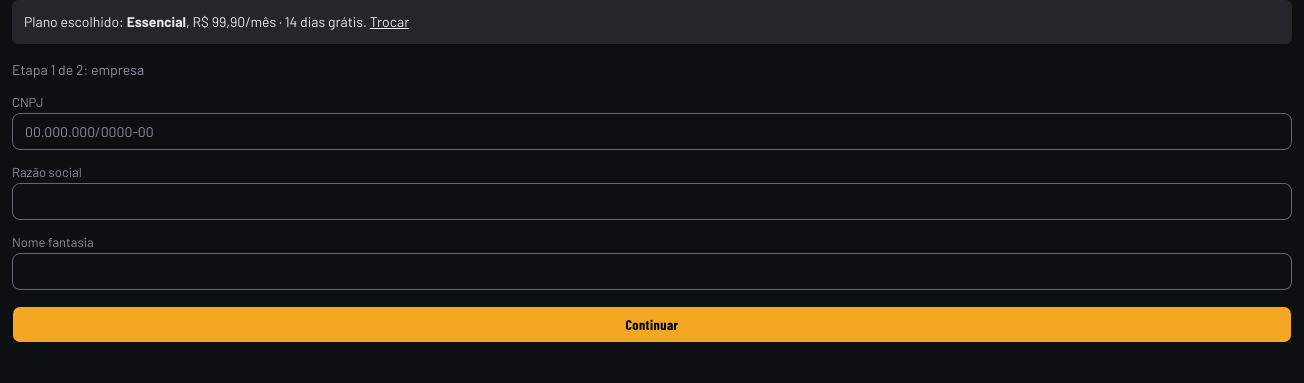
Test: CadastroForm › CNPJ inválido não avança nem consulta
This screenshot has width=1304, height=383.
Type "11222333000182" into the field labelled "CNPJ" at (652, 132), box [12,113,1292,150]
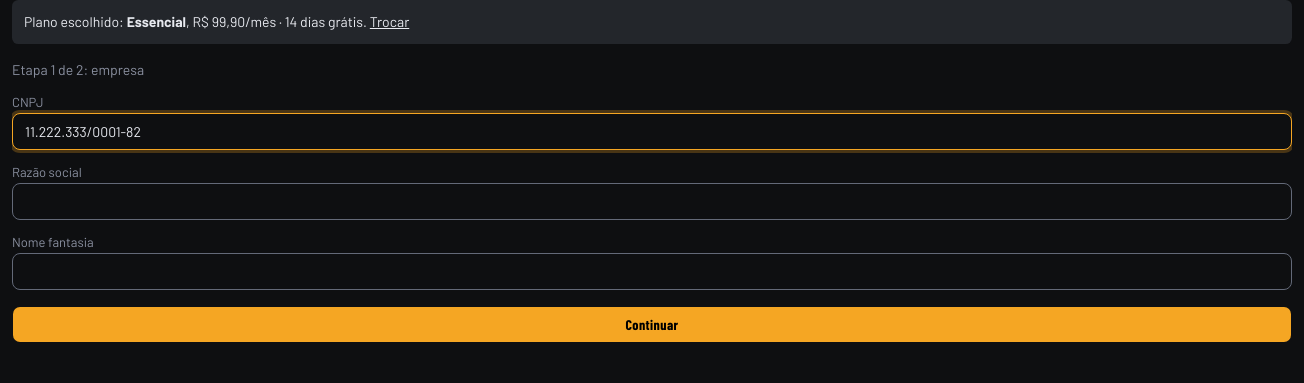
Type "X" into the field labelled "Razão social" at (652, 202), box [12,183,1292,220]
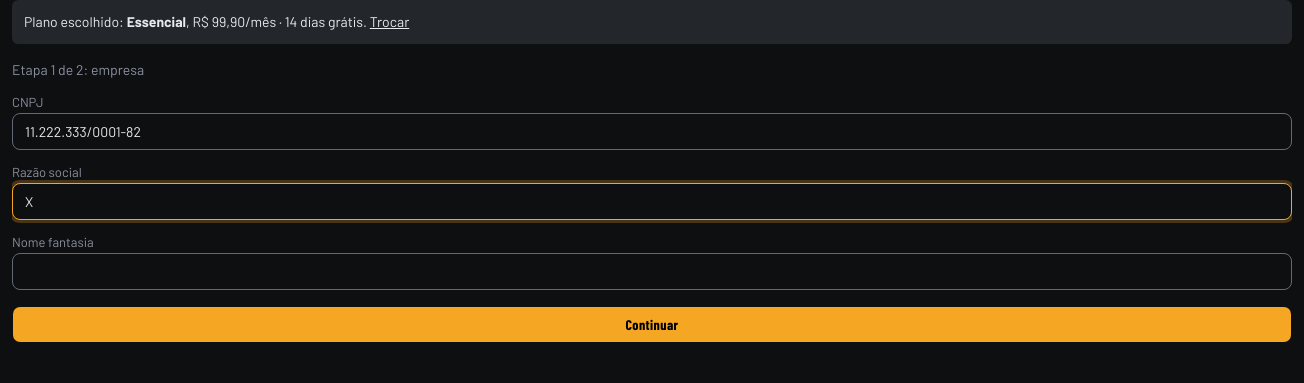
Click the button "Continuar" at (652, 324), box [12,306,1292,343]
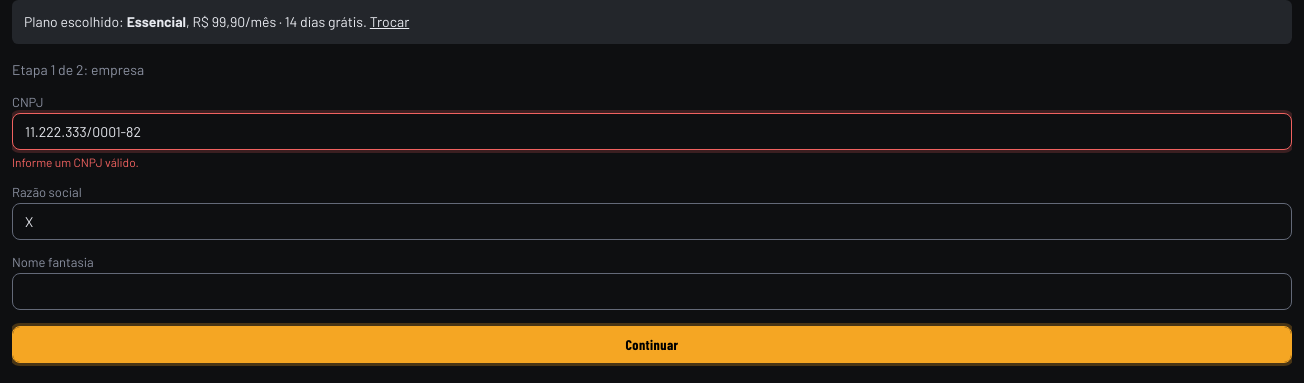
Check: the text "Informe um CNPJ válido." is shown, box [12,155,139,169]
